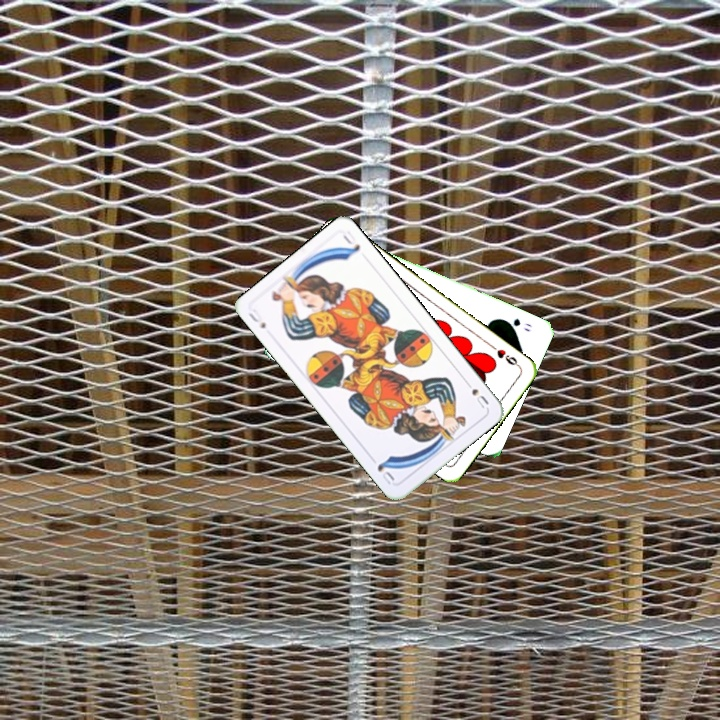GO: (498, 314, 534, 334)
H9: (487, 341, 523, 370)
SU: (460, 376, 491, 411), (244, 305, 268, 331)
